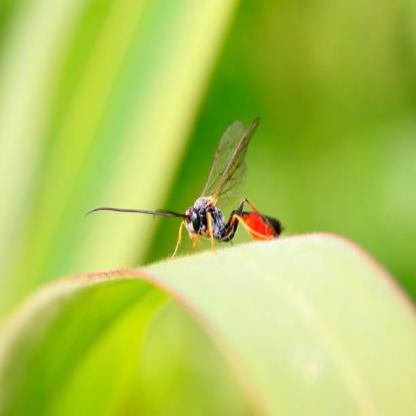sawfly: (88, 115, 290, 260)
